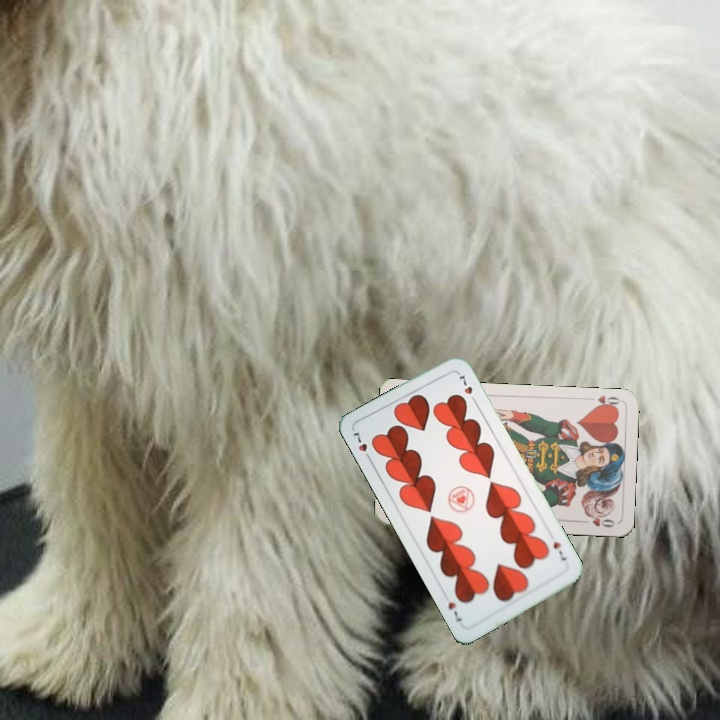H7: (349, 428, 374, 464), (549, 537, 569, 564)
HO: (590, 392, 623, 411)
